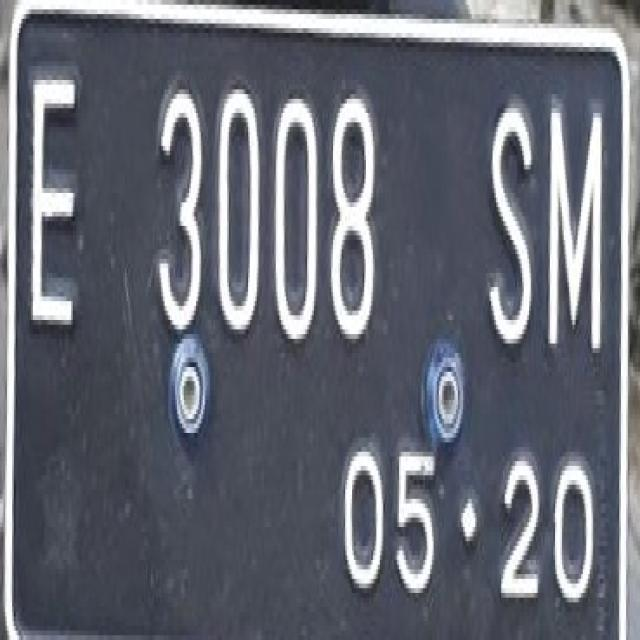plate: (9, 0, 624, 631)
